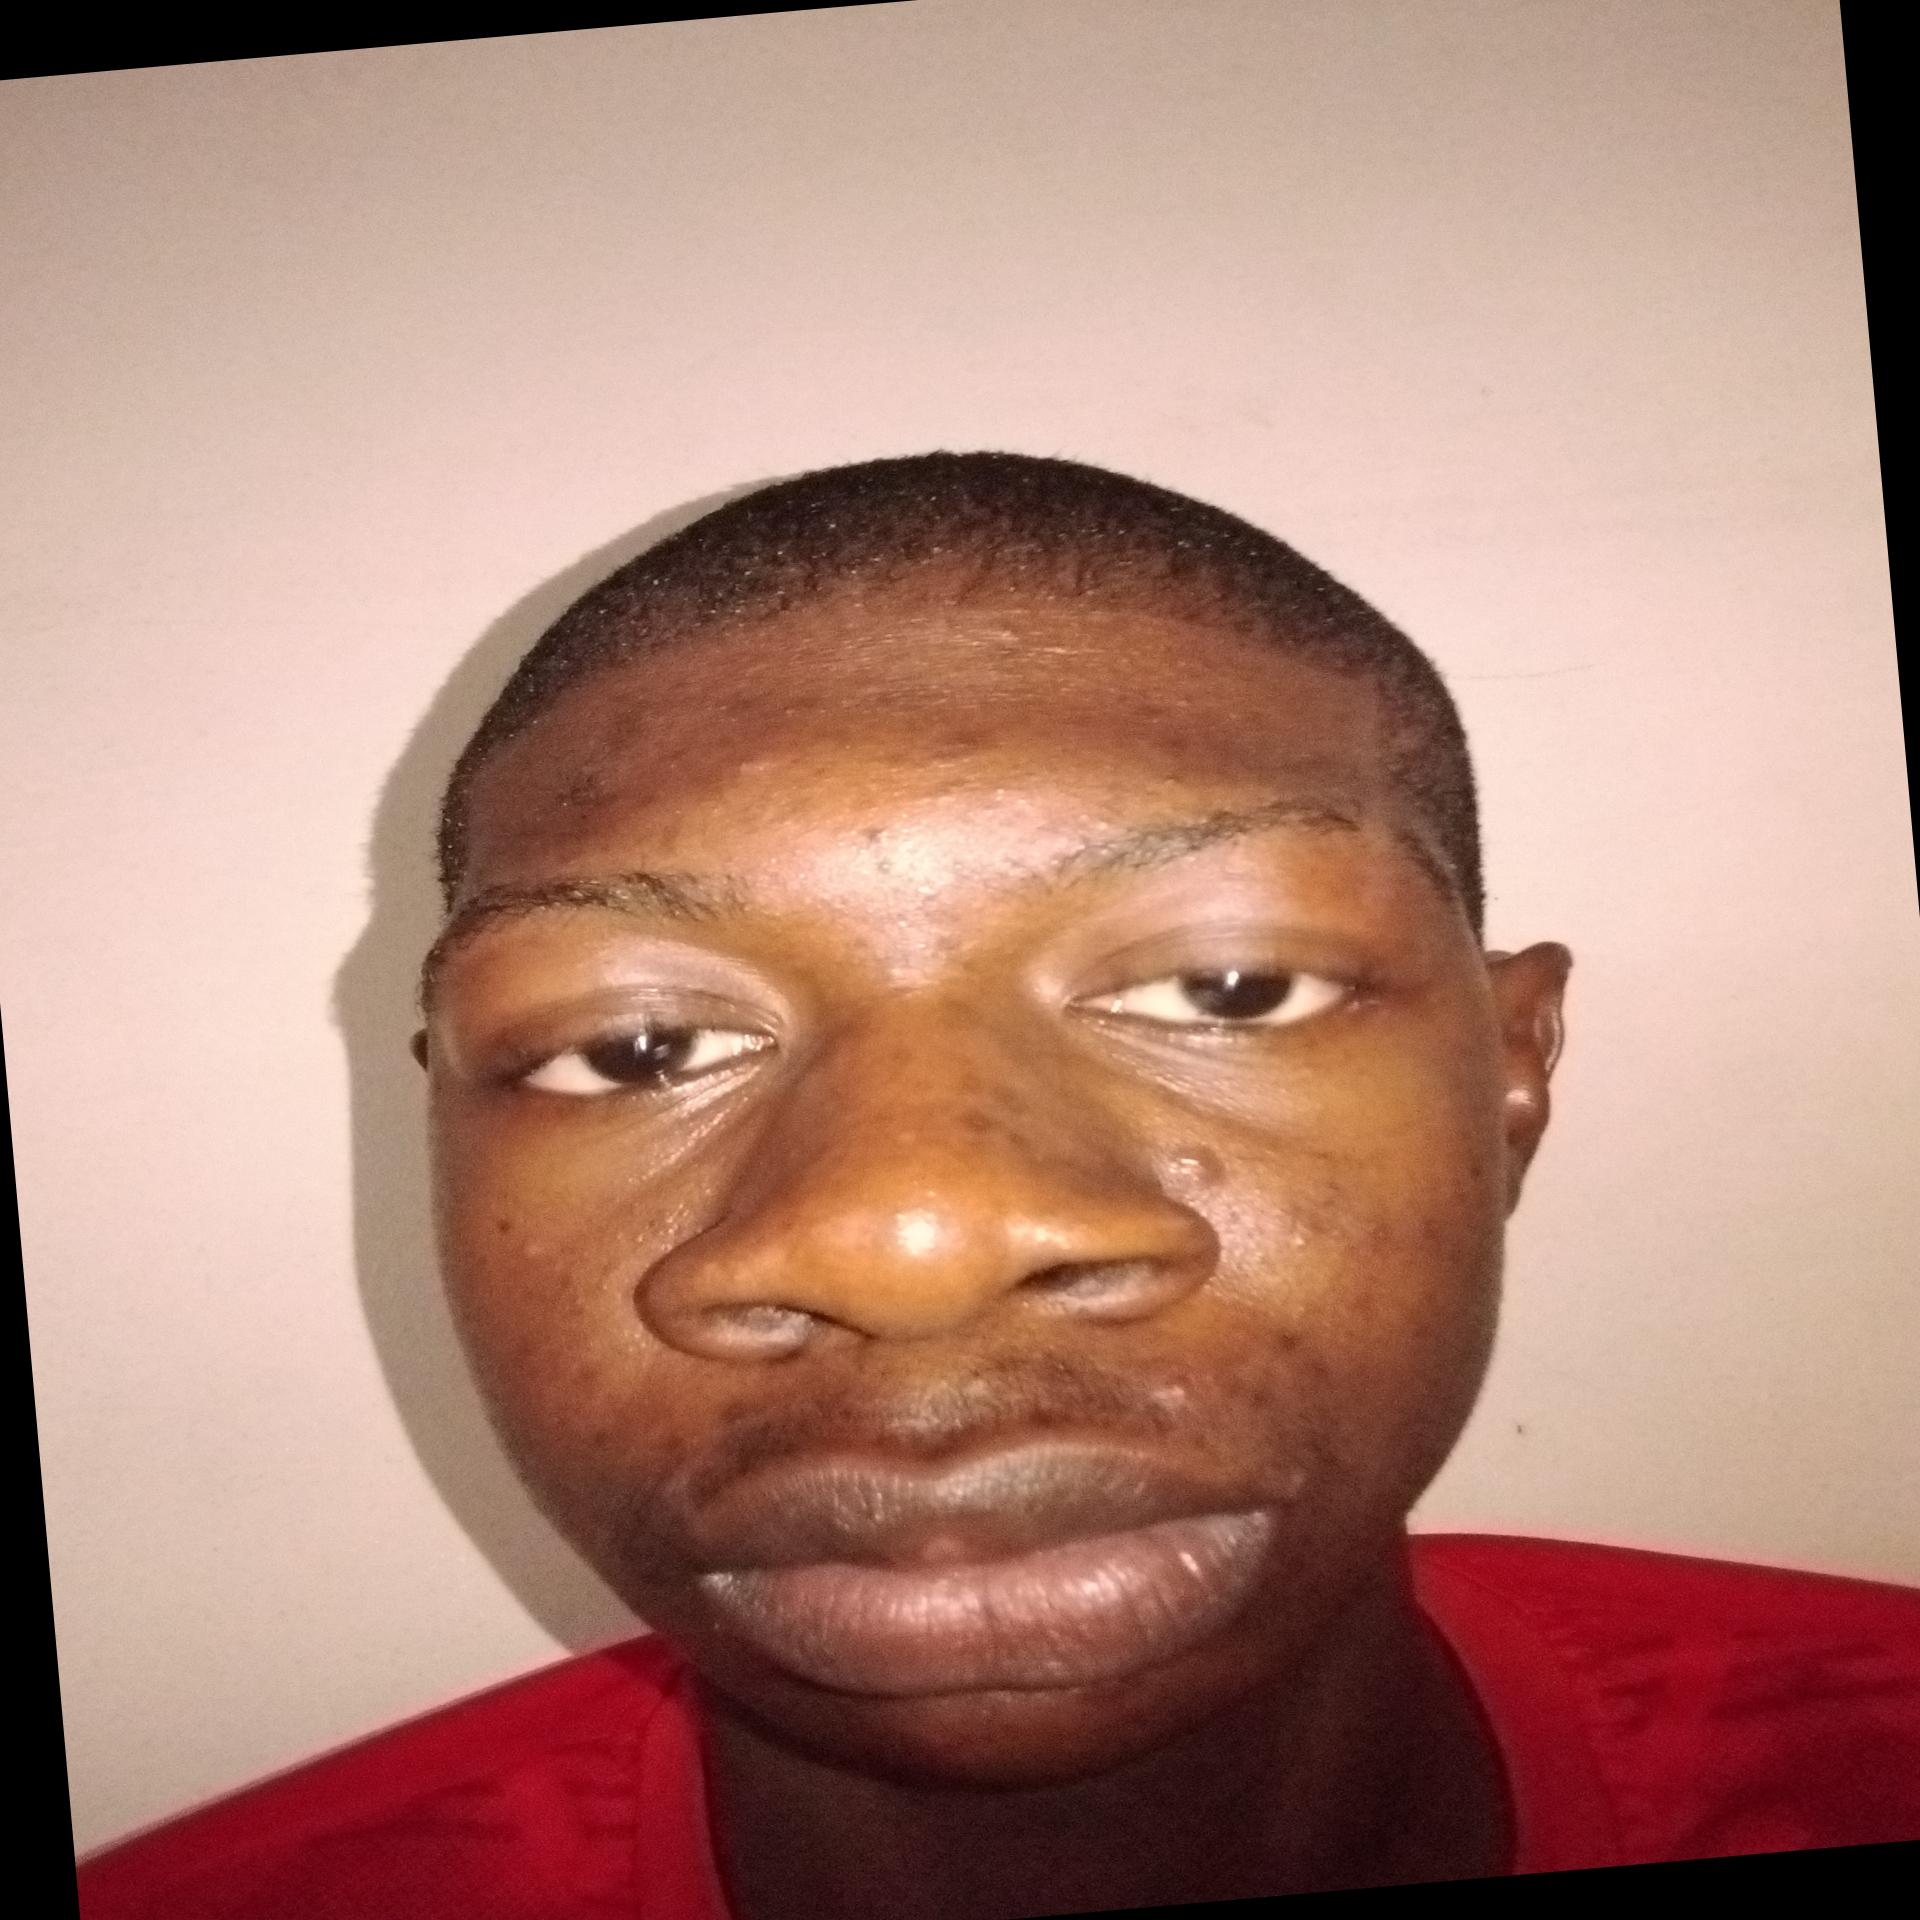Acne: (545, 673, 682, 814), (503, 1243, 608, 1398), (1282, 1185, 1473, 1269), (1231, 1317, 1350, 1414), (939, 1065, 1037, 1143), (969, 610, 1097, 665), (1146, 1129, 1234, 1192), (920, 714, 1007, 777), (853, 814, 918, 891), (1296, 1141, 1361, 1199), (695, 1384, 779, 1426), (719, 742, 800, 786), (921, 921, 978, 983), (1145, 1364, 1206, 1412), (1127, 686, 1197, 726), (774, 682, 826, 730), (645, 1422, 696, 1466), (833, 923, 888, 964), (1069, 802, 1122, 837), (577, 1414, 617, 1444), (1145, 768, 1190, 789), (1458, 1157, 1491, 1185)
